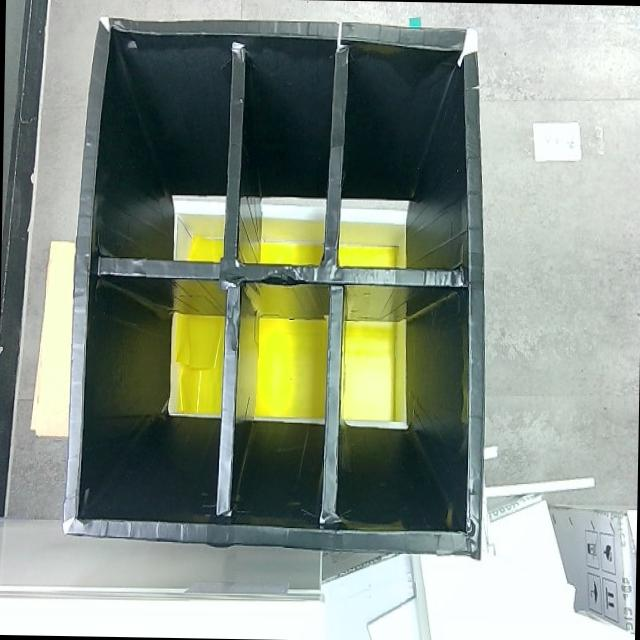box: (62, 15, 492, 556)
